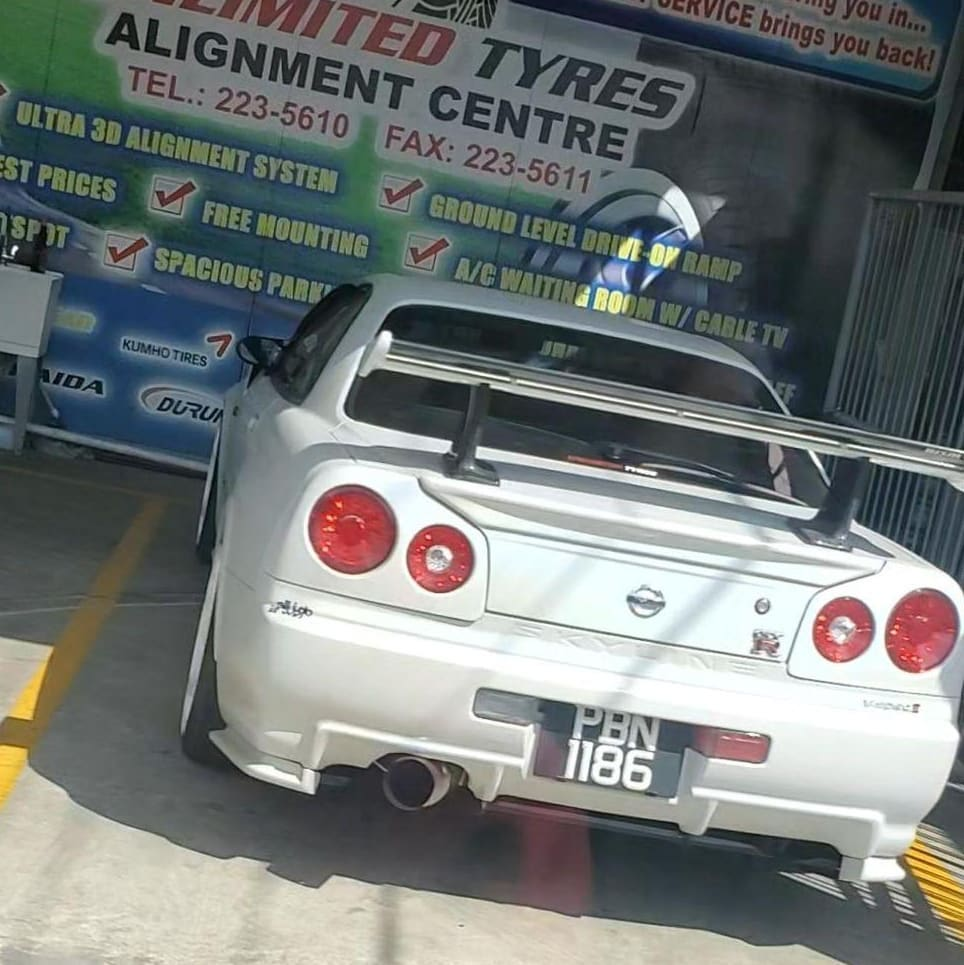License-Plate: (548, 697, 690, 776)
